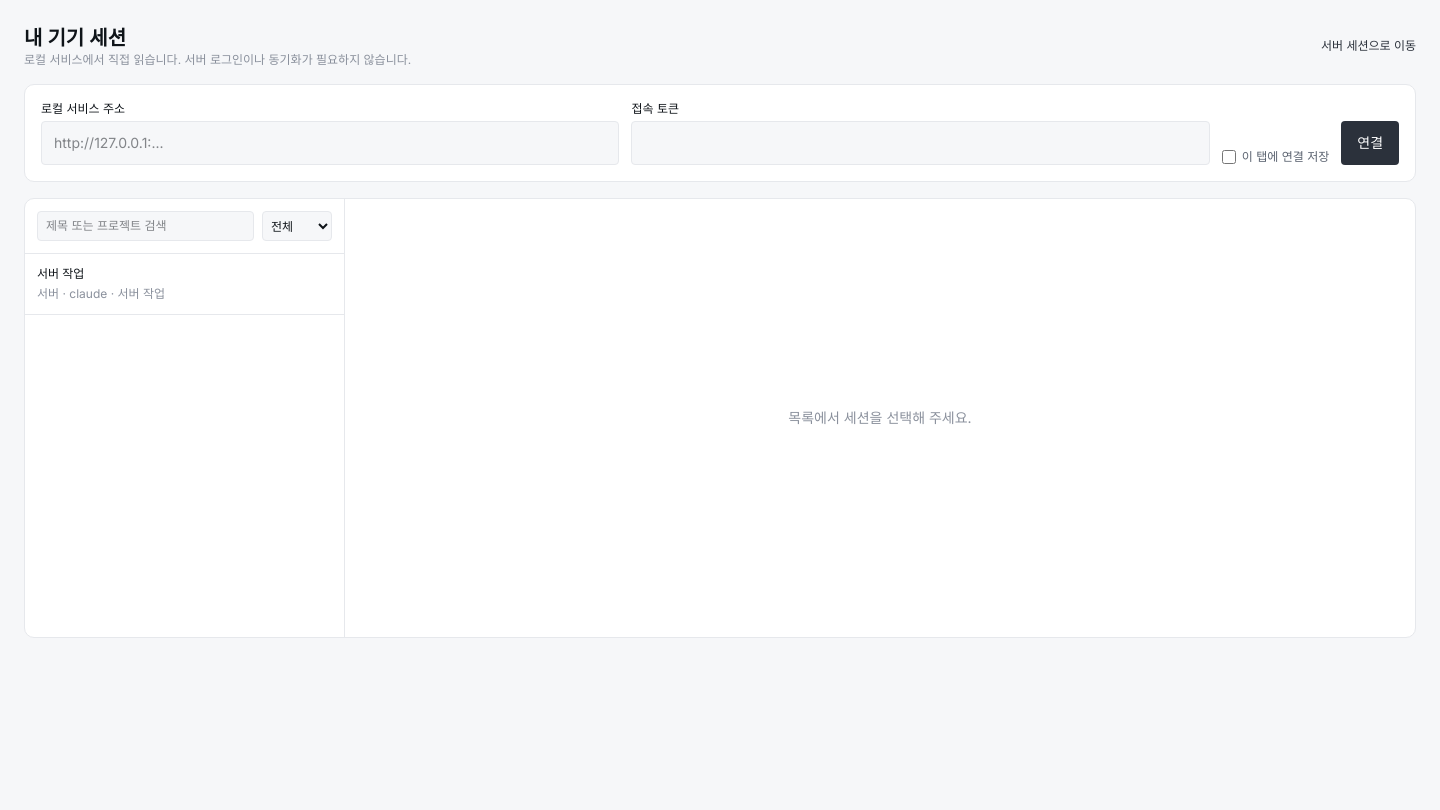
Test: LocalSessionsPanel › shows and selects a local row without a native ID and offers no grouping
In the field labelled "로컬 서비스 주소": [330, 143] box [41,121,619,165], type "http://127.0.0.1:4567"
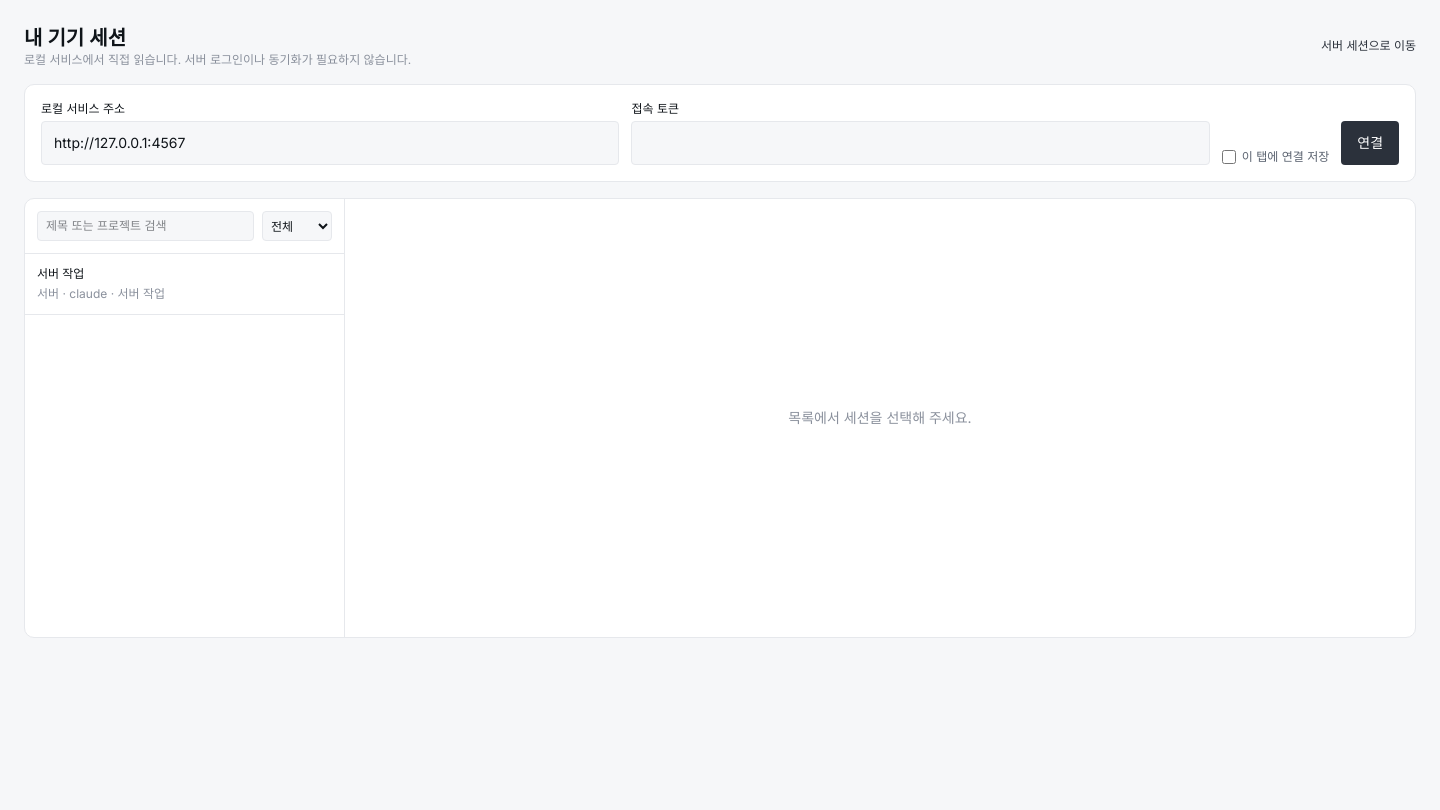
In the password field labelled "접속 토큰": [921, 143] box [631,121,1210,165], type "temporary-value"
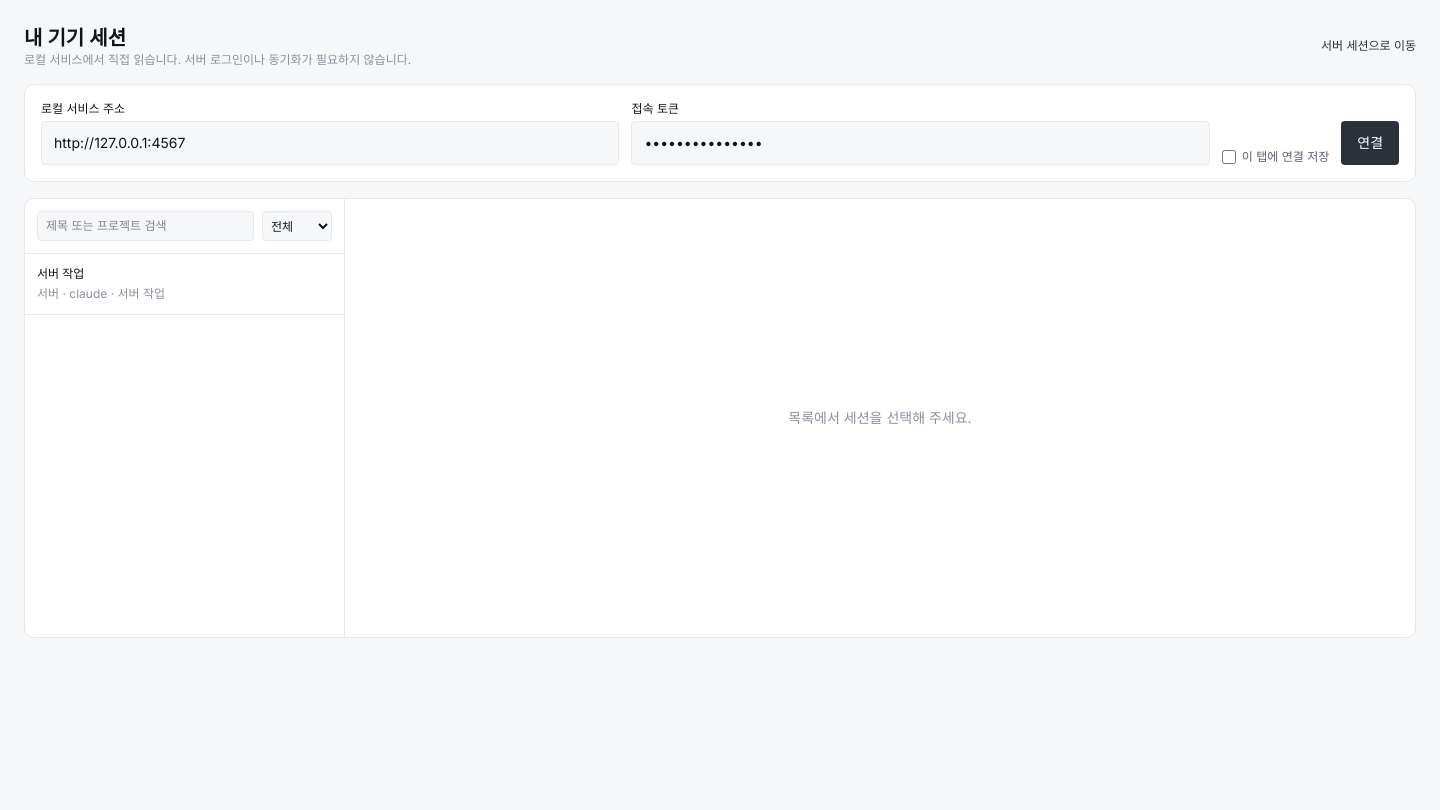
Click the button "연결": [1370, 143] box [1341,121,1399,165]
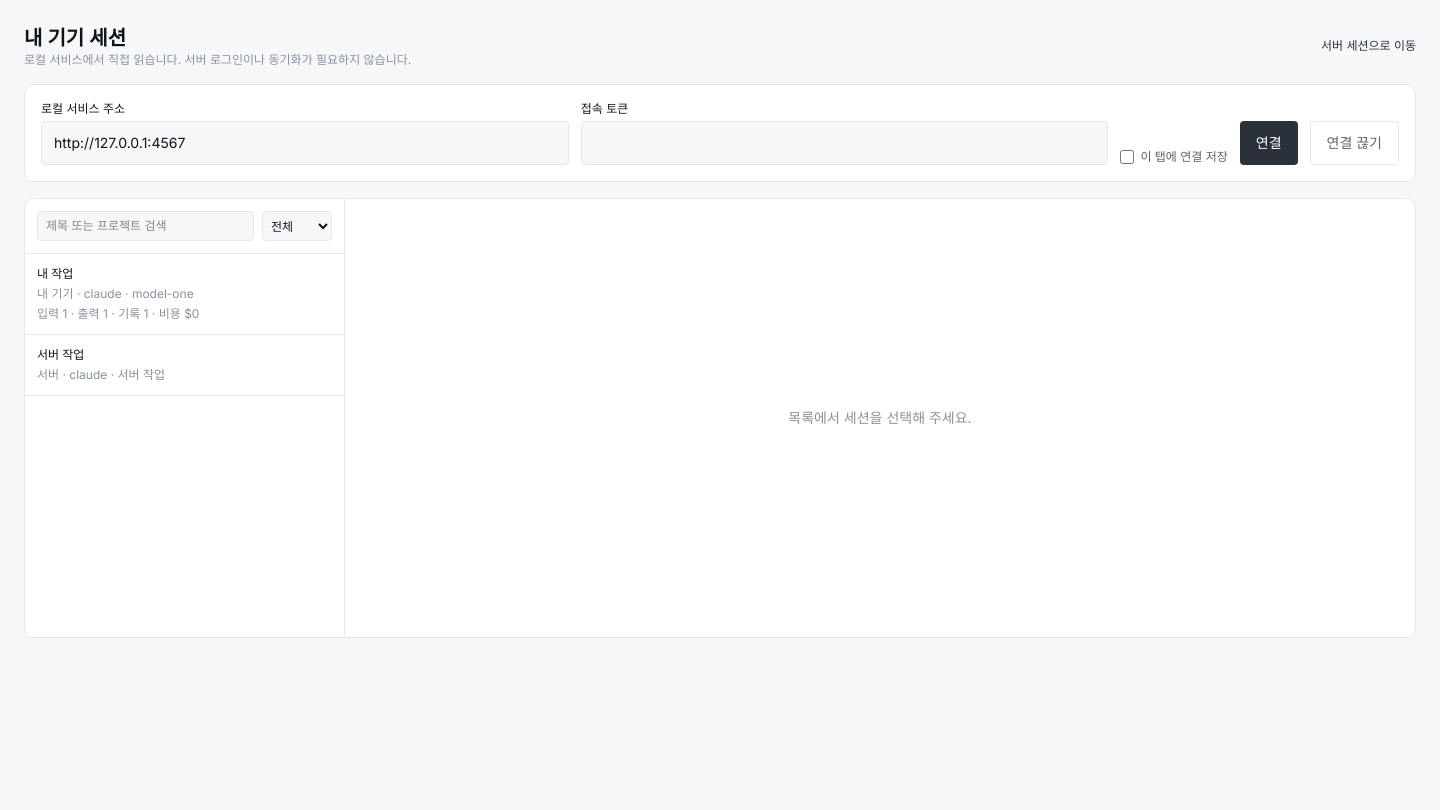
Expected: the button "내 작업 내 기기 · claude · model-one 입력 1 · 출력 1 · 기록 1 · 비용 $0" is shown
Click the button "내 작업 내 기기 · claude · model-one 입력 1 · 출력 1 · 기록 1 · 비용 $0": [184, 294] box [25,254,344,334]
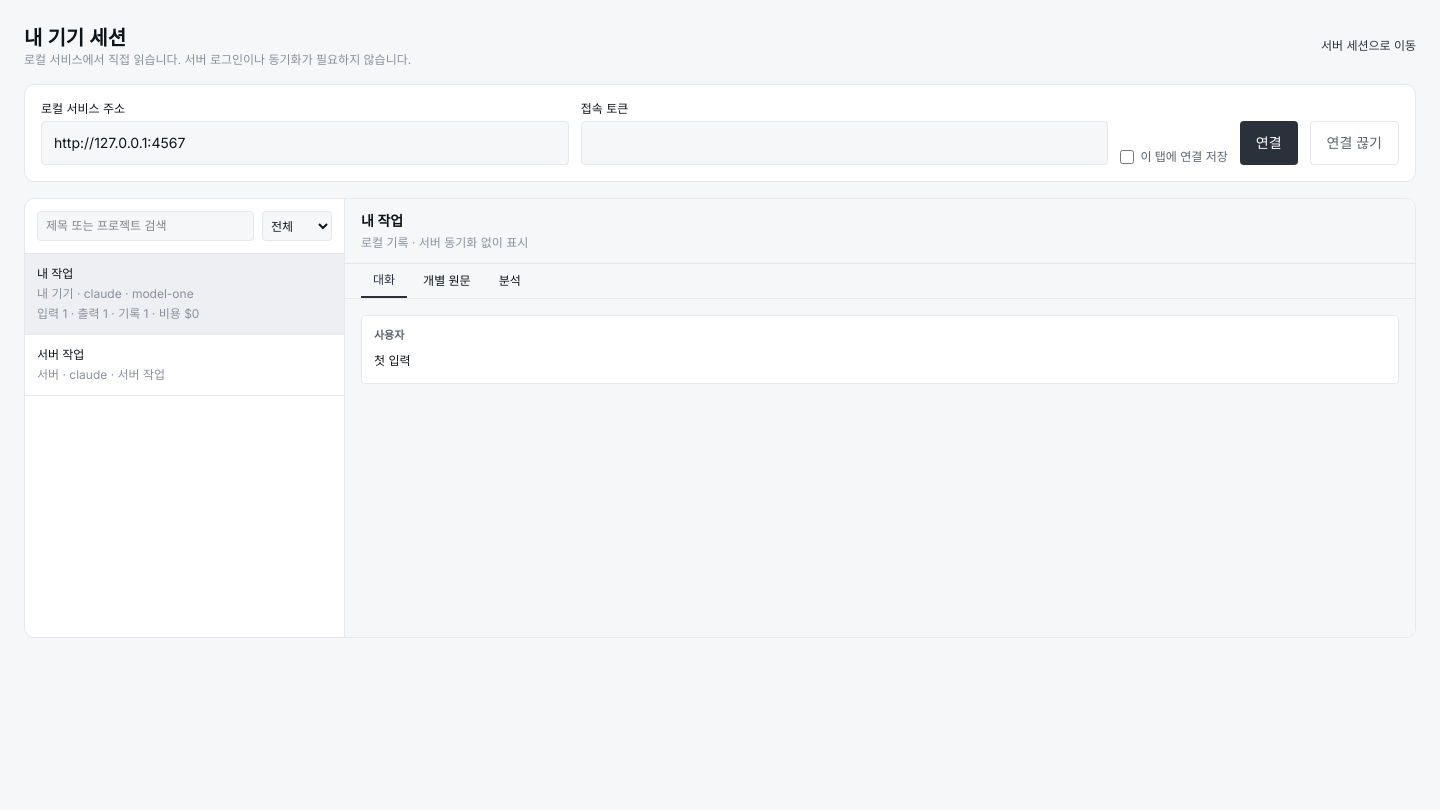
Expected: the element named "로컬 세션 상세" is shown, [345,199,1415,637]
